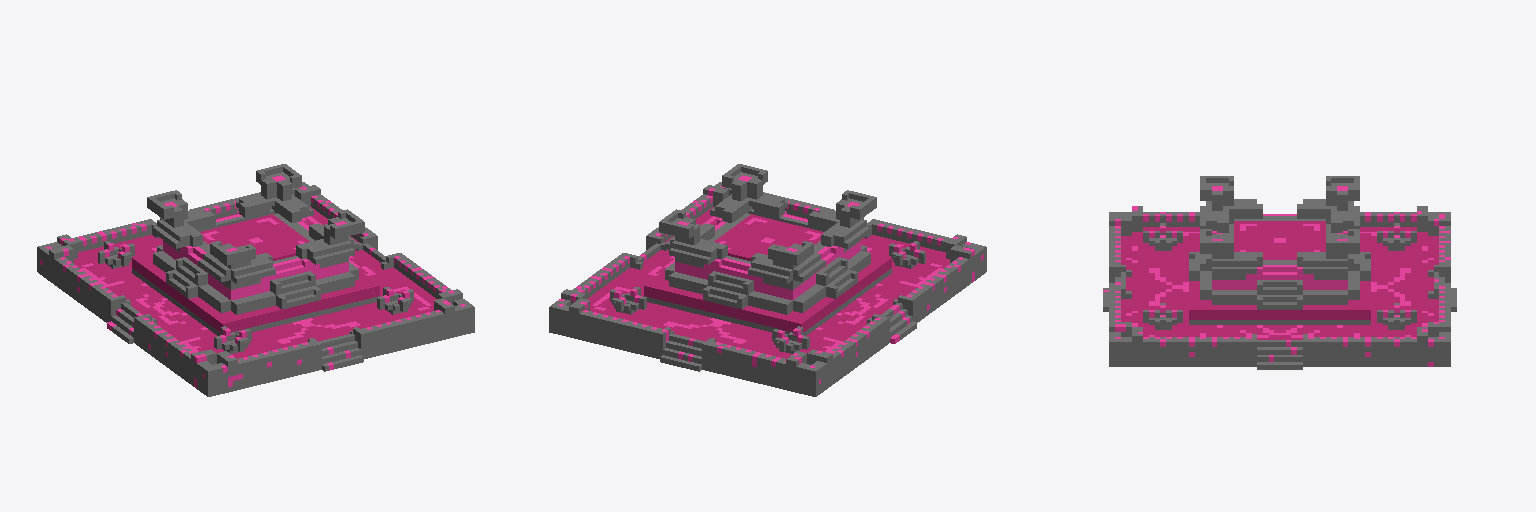
3 views of the same model, side by side, from view 1: azimuth 30°, elevation 25°; view 2: azimuth 150°, elevation 25°; view 3: azimuth 270°, elevation 25° (orthographic).
Visible parts, largest first — view 1: object 1; view 2: object 1; view 3: object 1.
Part boxes in pixels (bbox=[...]): object 1: bbox=[37, 164, 474, 396]; object 1: bbox=[549, 164, 986, 396]; object 1: bbox=[1103, 176, 1456, 369].
Size of the model in its own units: 5.6 by 1.8 by 6.2.
Materials: 1 (1 with a texture image).